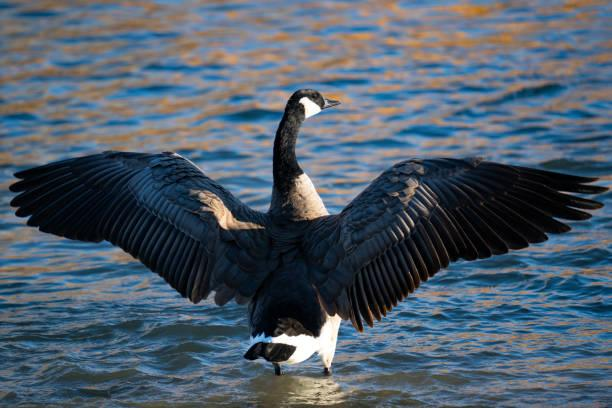Canadian-Goose: (0, 82, 597, 380)
